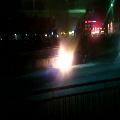fire: (52, 46, 73, 71)
